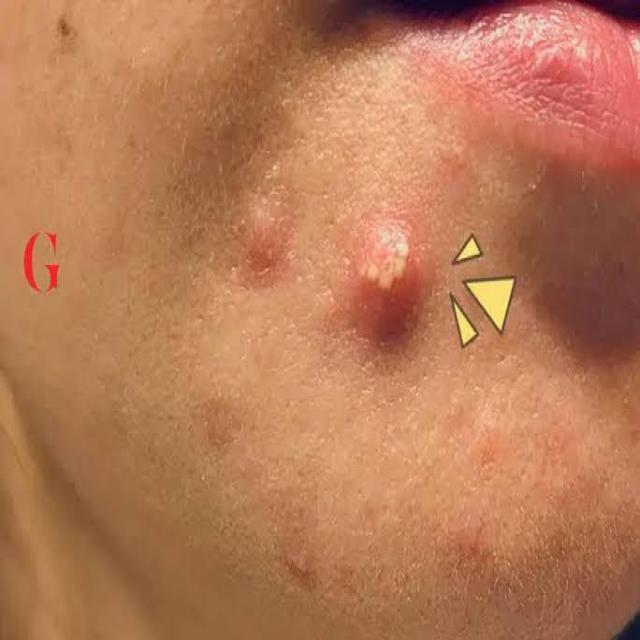nodule: (342, 197, 432, 381)
